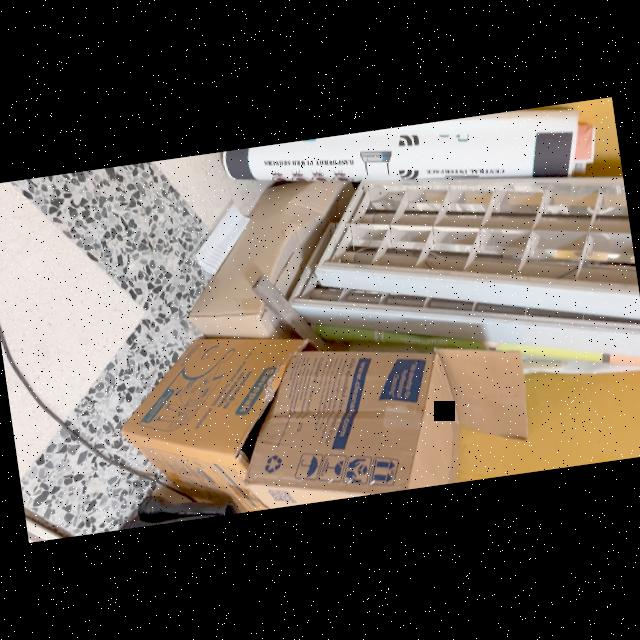cardboard_box: (228, 318, 542, 512), (105, 321, 328, 528)
